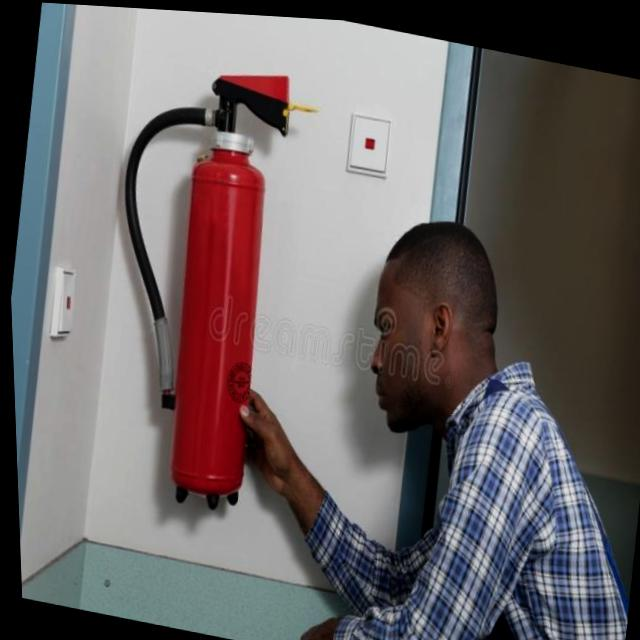FireExtinguisher: (74, 38, 310, 521)
